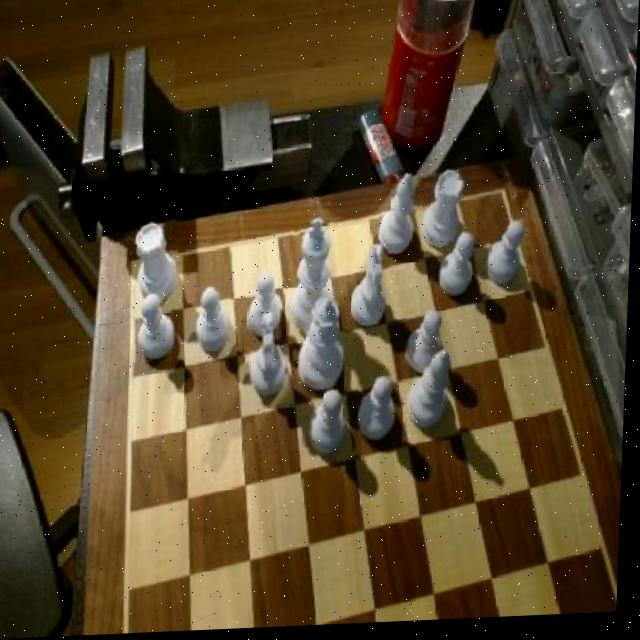black-rook: (409, 353, 457, 433), (381, 179, 418, 257)
white-bishop: (292, 223, 338, 336)
white-king: (248, 312, 292, 405), (348, 252, 392, 330)
white-knight: (194, 287, 235, 364), (245, 276, 288, 347), (132, 298, 177, 364), (487, 226, 528, 293), (407, 314, 447, 378), (359, 381, 399, 445), (311, 392, 350, 455), (438, 239, 477, 301)
white-pawn: (297, 298, 349, 393)
white-queen: (136, 219, 184, 307), (422, 171, 467, 255)
